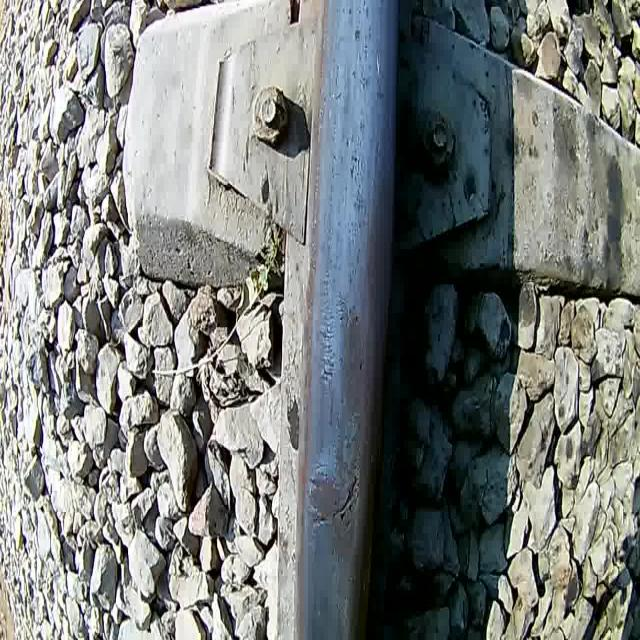Squats: (338, 294, 369, 426), (306, 469, 342, 535)
